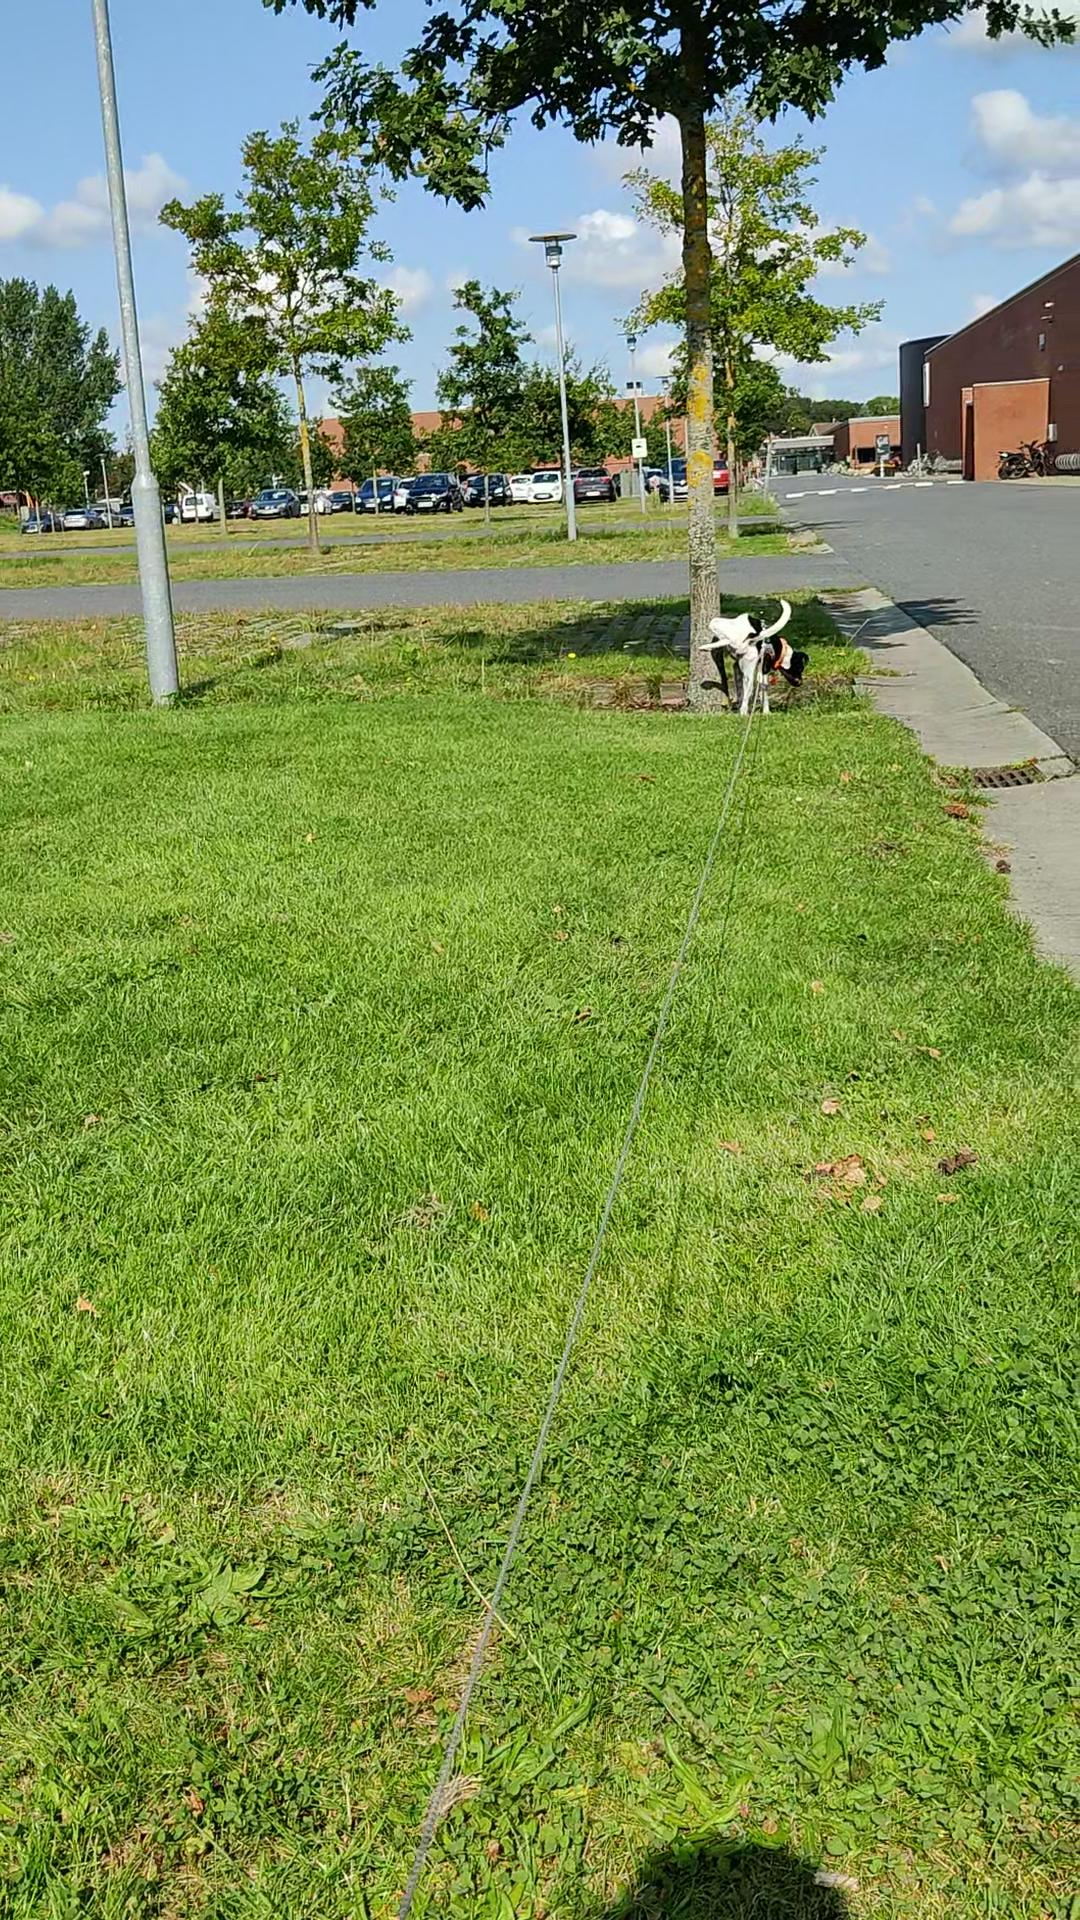Dog: (695, 596, 812, 717)
